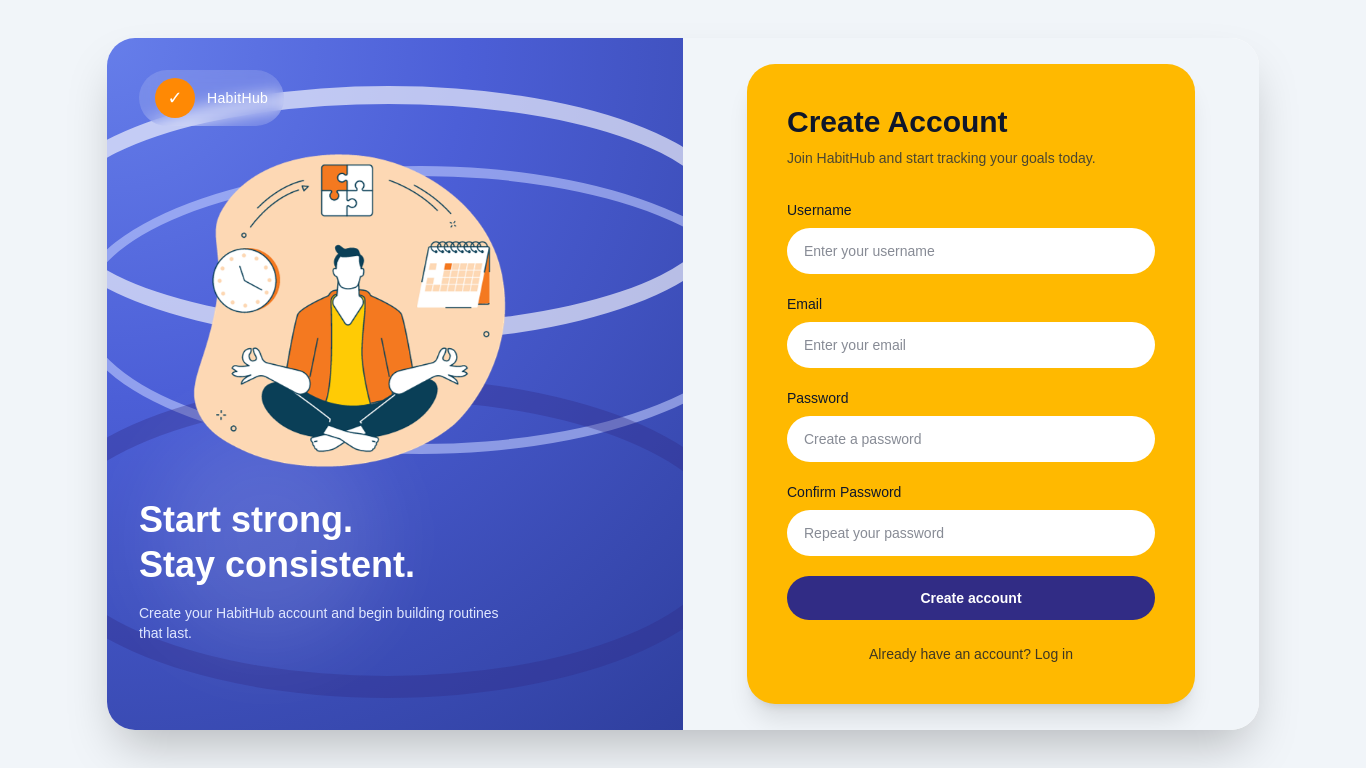
Test case: RegisterPage › shows error when passwords do not match
In the field labelled "Username": (971, 251) x1=787 y1=228 x2=1155 y2=274, type "ashley"
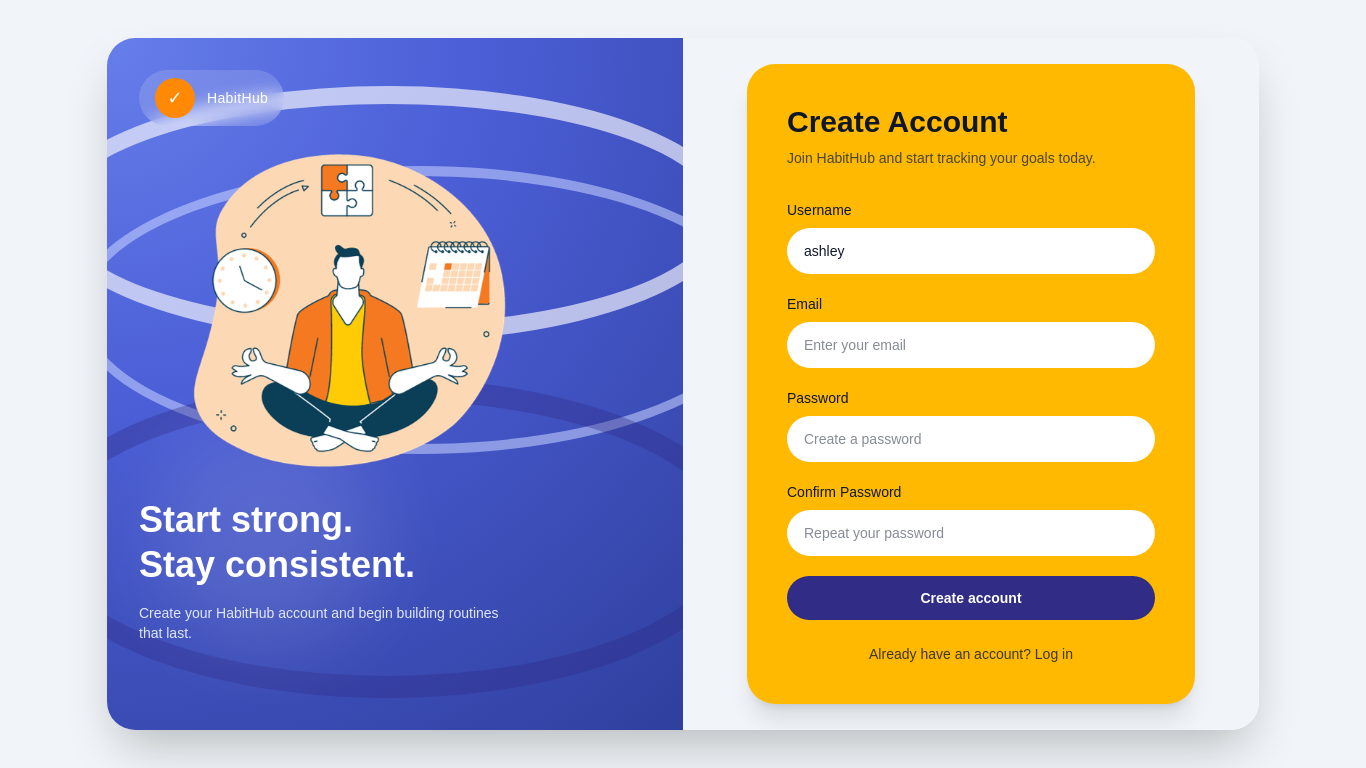
In the field labelled "Email": (971, 345) x1=787 y1=322 x2=1155 y2=368, type "test@example.com"
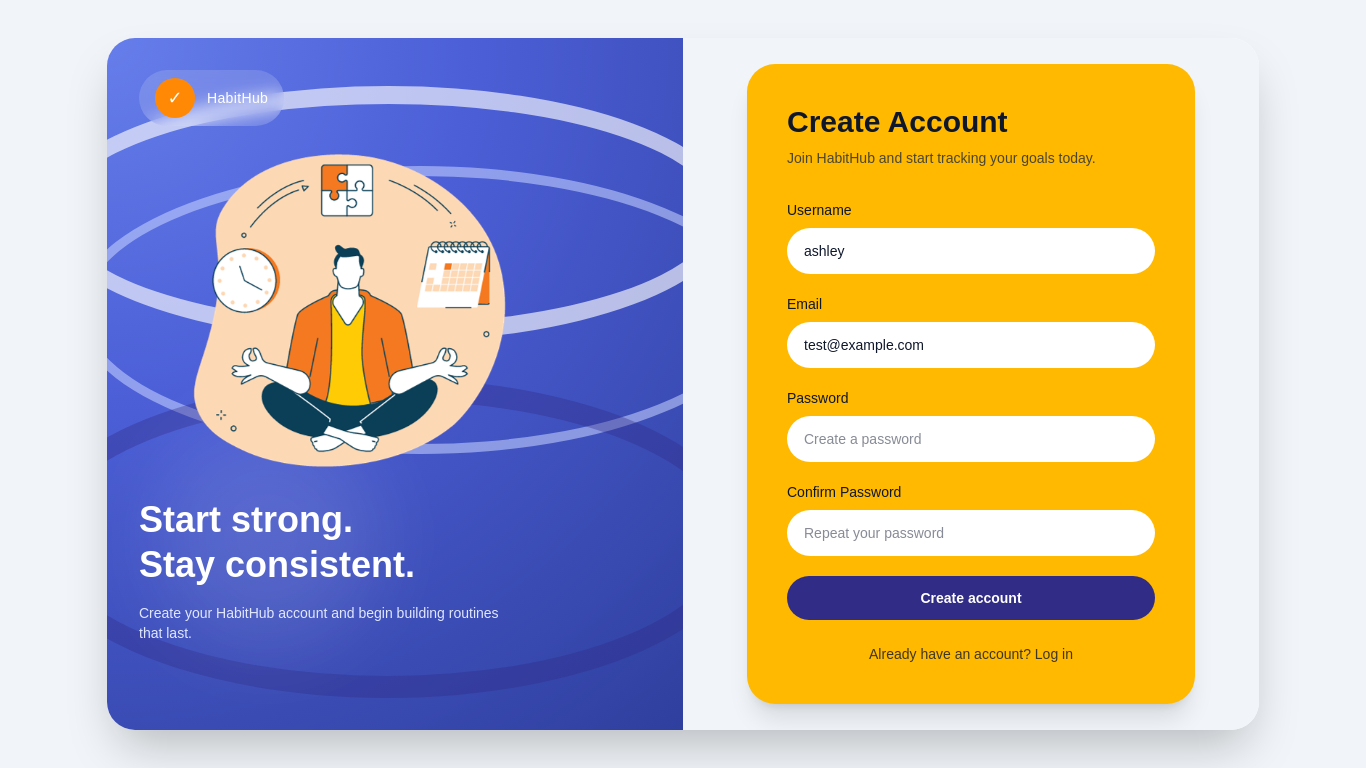
In the password field labelled "Password": (971, 439) x1=787 y1=416 x2=1155 y2=462, type "123456"
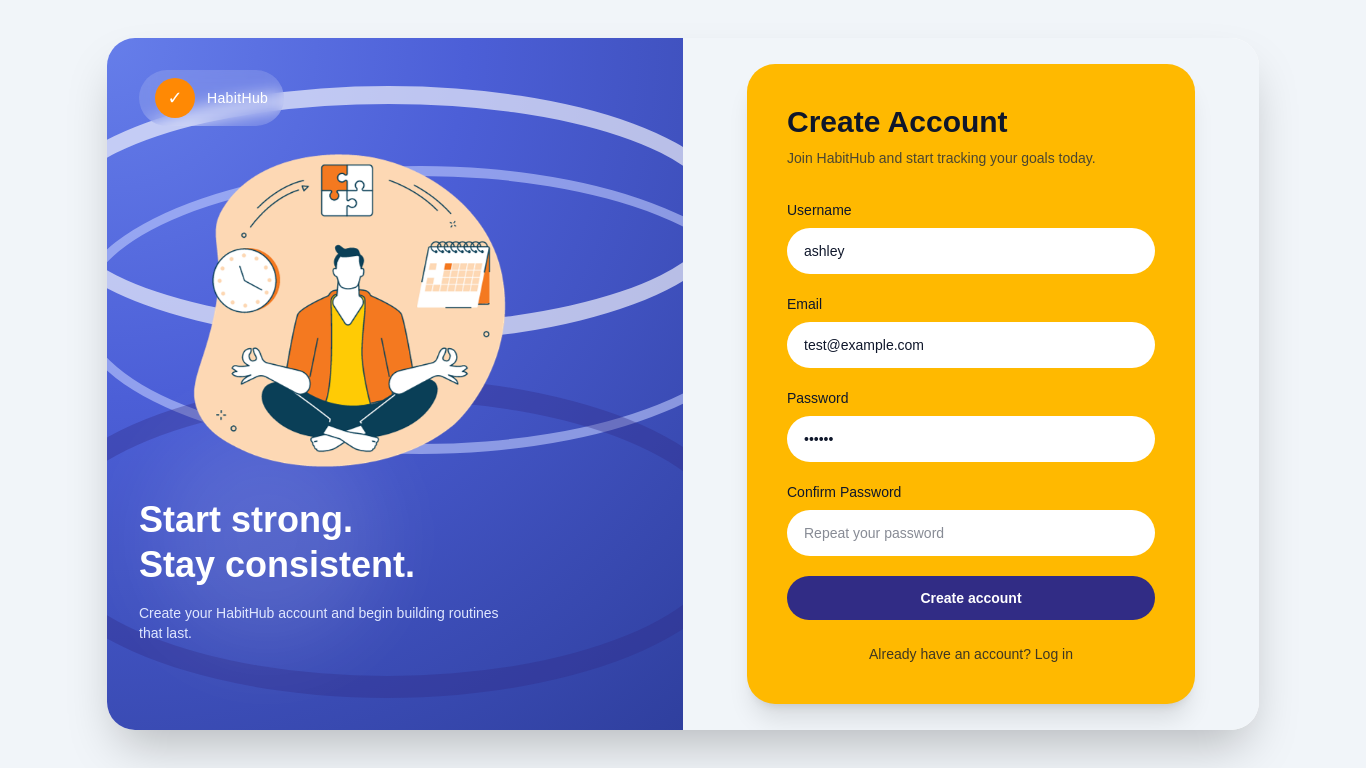
In the password field labelled "Confirm Password": (971, 533) x1=787 y1=510 x2=1155 y2=556, type "654321"
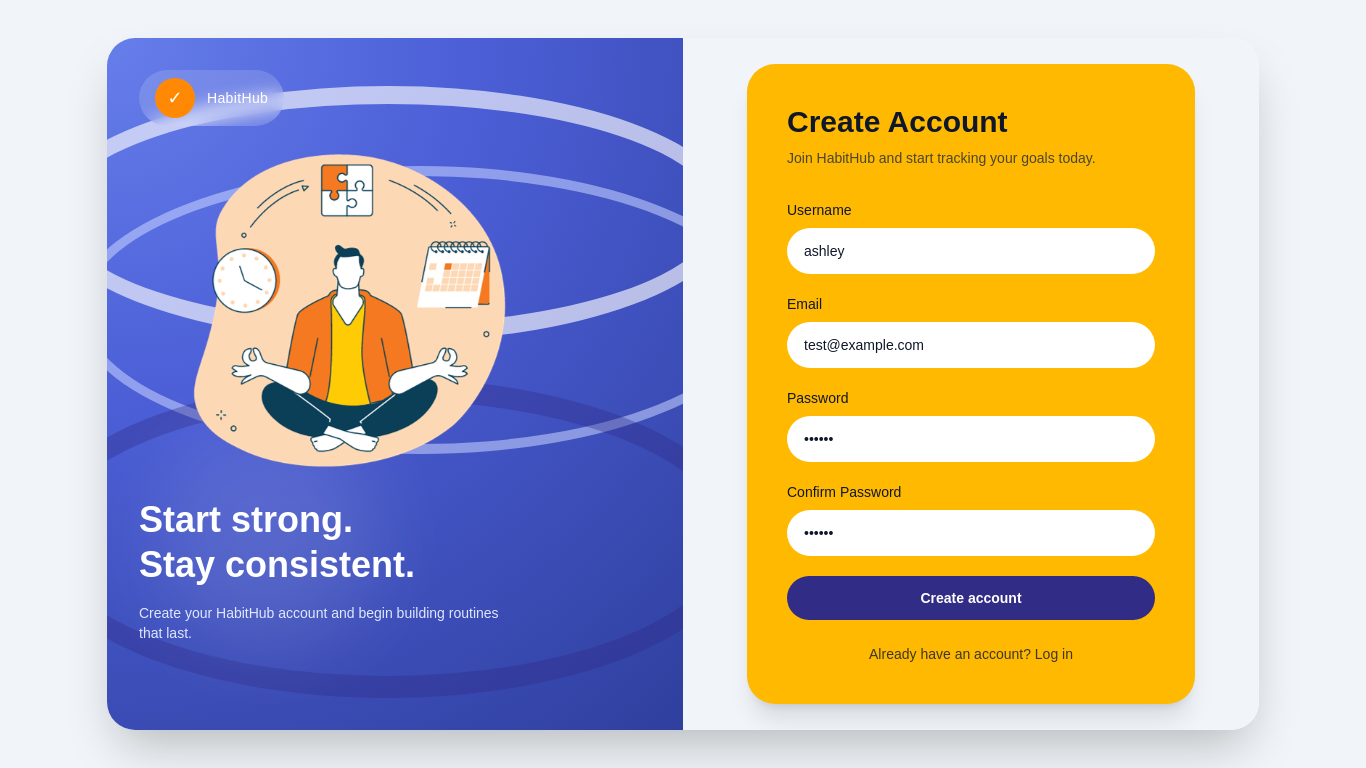
Click the button "Create account": (971, 598) x1=787 y1=576 x2=1155 y2=620
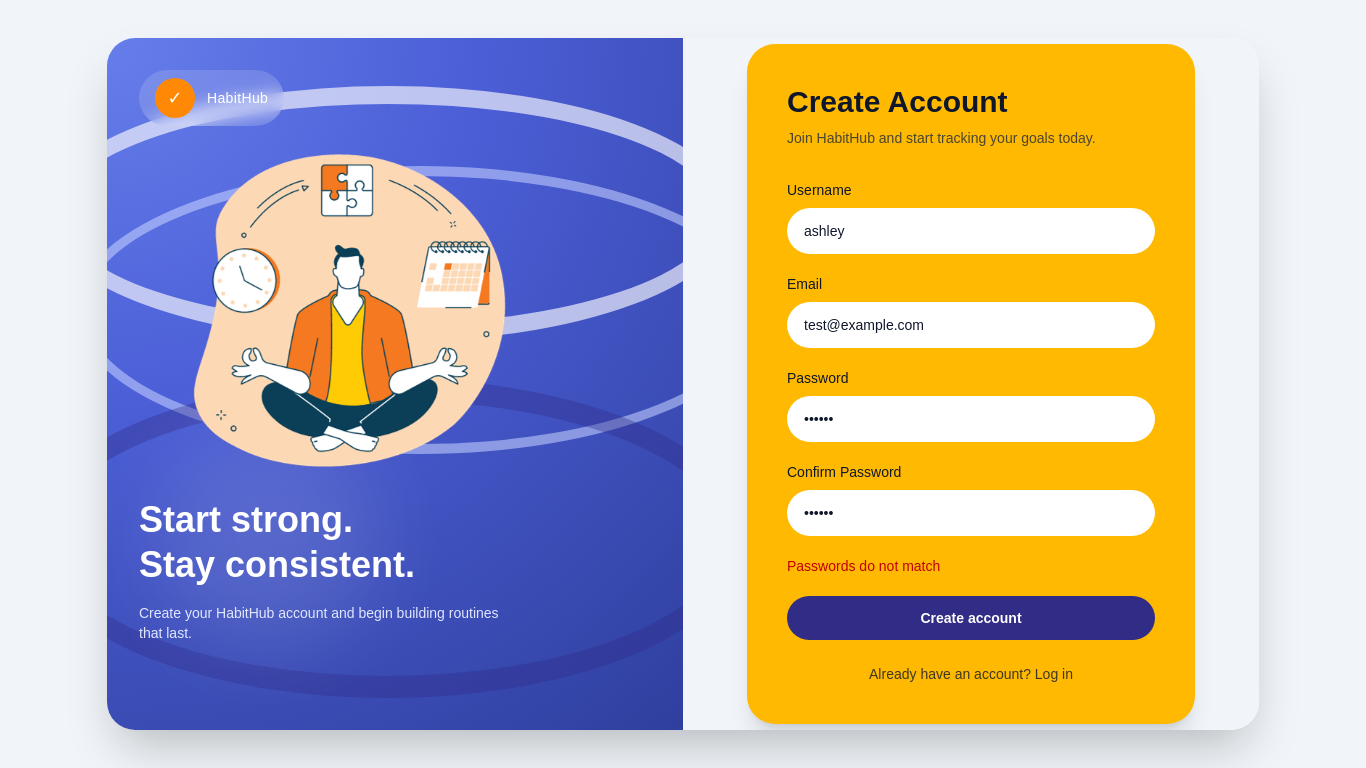
Now the text "Passwords do not match" is shown, box x1=787 y1=558 x2=940 y2=574
